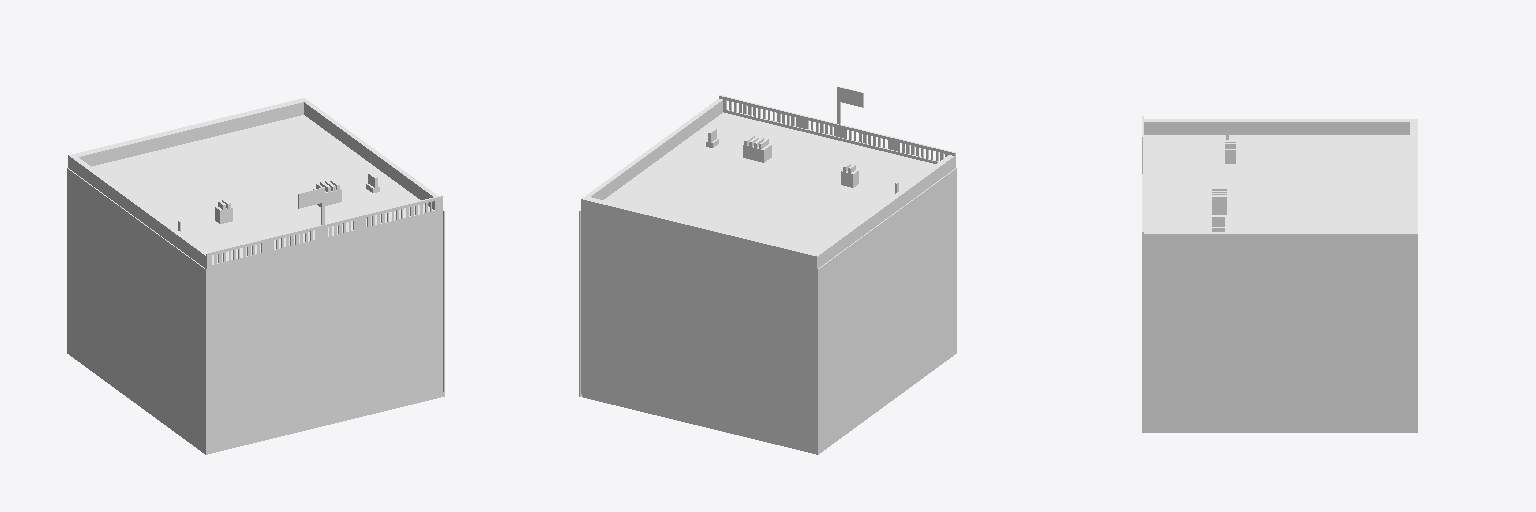
File: mansfield-park.obj
3 renders of one model, left to right at view 1: azimuth 30°, elevation 25°; view 2: azimuth 150°, elevation 25°; view 3: azimuth 270°, elevation 25°, orthographic.
Visible parts, largest first — view 1: object 1; view 2: object 1; view 3: object 1.
Boxes of the visible parts, box(x1,y1,x2,y2) form: object 1: box(67, 98, 444, 454); object 1: box(579, 86, 956, 454); object 1: box(1142, 116, 1417, 432).
Bounding box in the file's own units: 25.5 × 24.3 × 25.6.